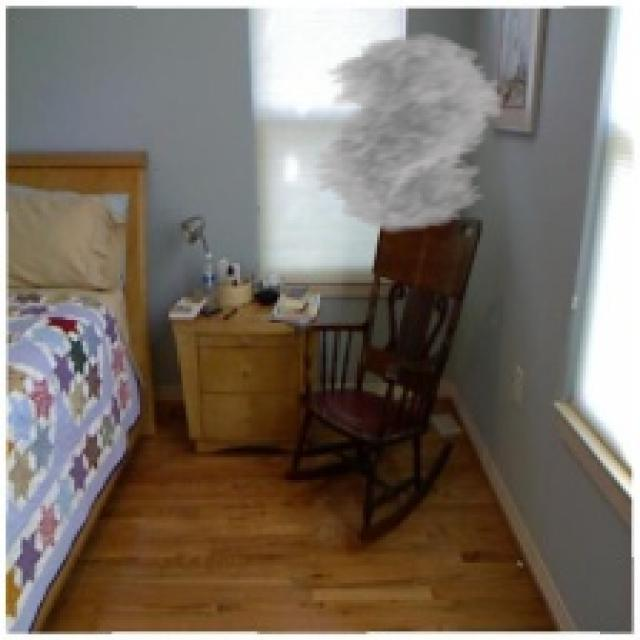Smoke: (288, 32, 523, 235)
